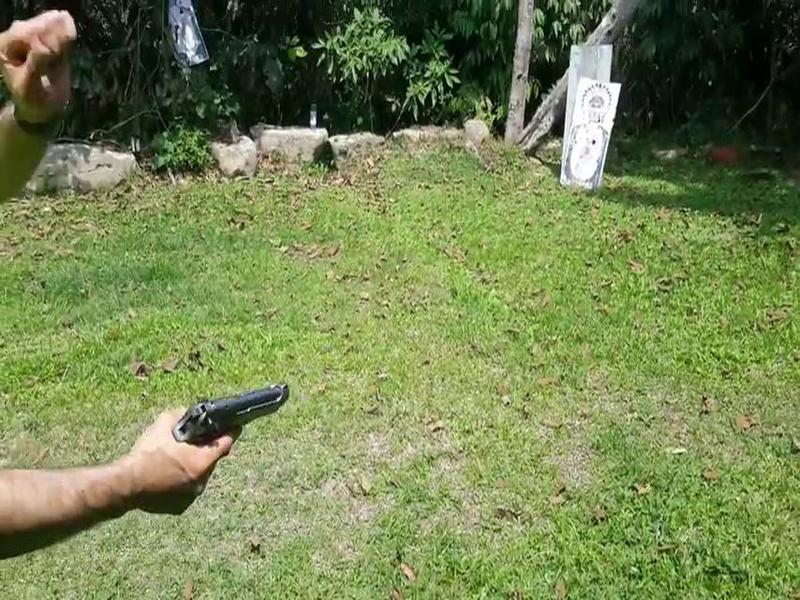Pistola: (172, 378, 299, 492)
